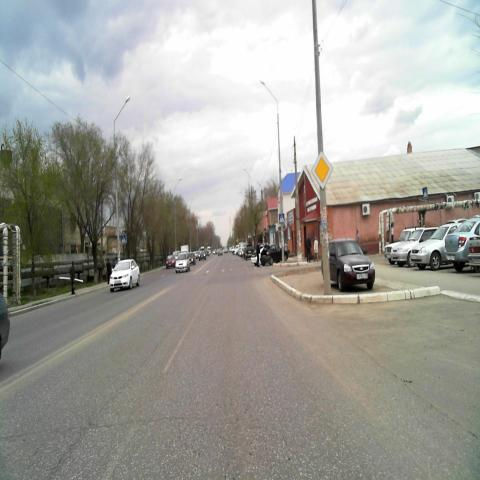2_1: (311, 151, 332, 188)
5_19_1: (121, 234, 127, 244), (279, 214, 284, 224)
